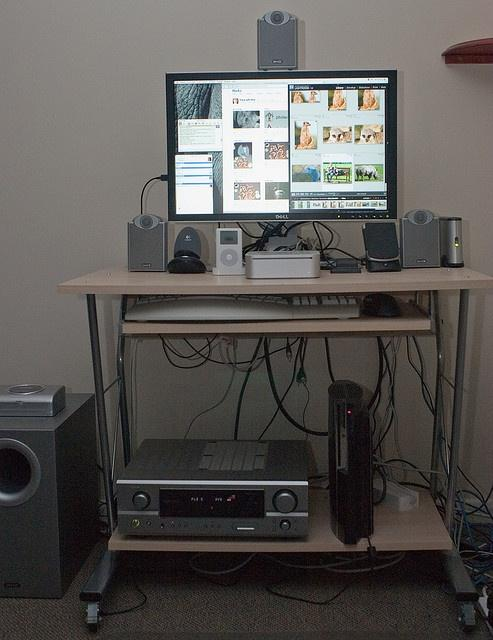AIO PC-Monitor-TV: (163, 68, 397, 252)
